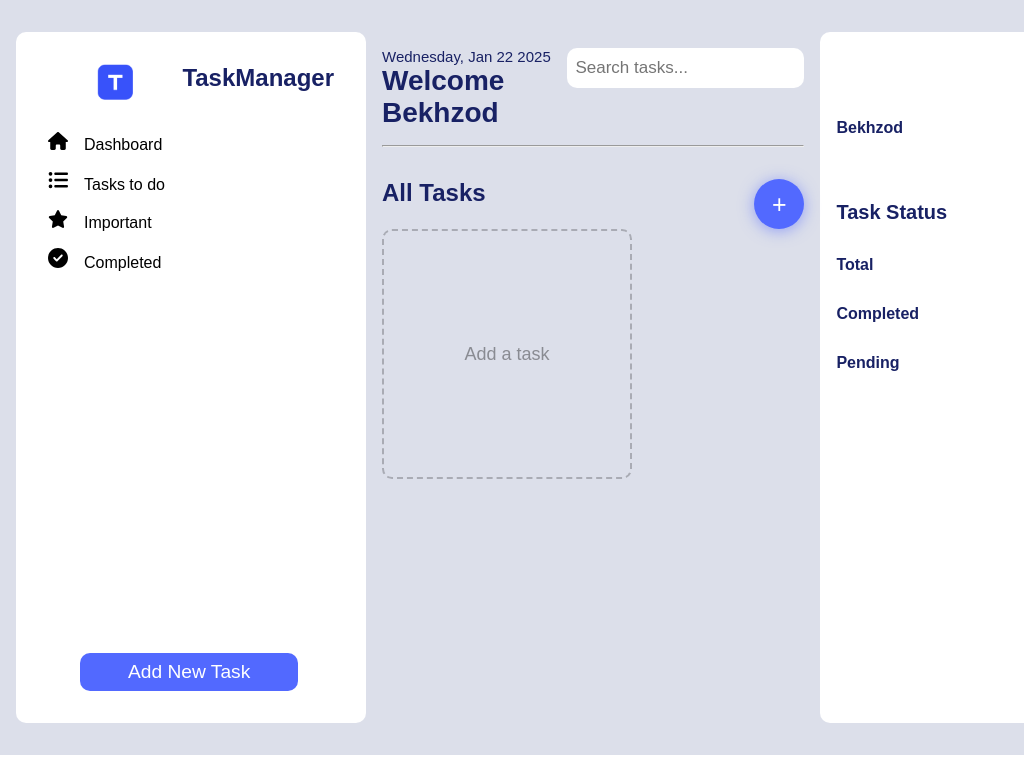
Scenario: Dashboard Component › Clicking 'Add Task' button opens the modal
Click the button "Add New Task" at x=189, y=672, box [80, 653, 298, 691]
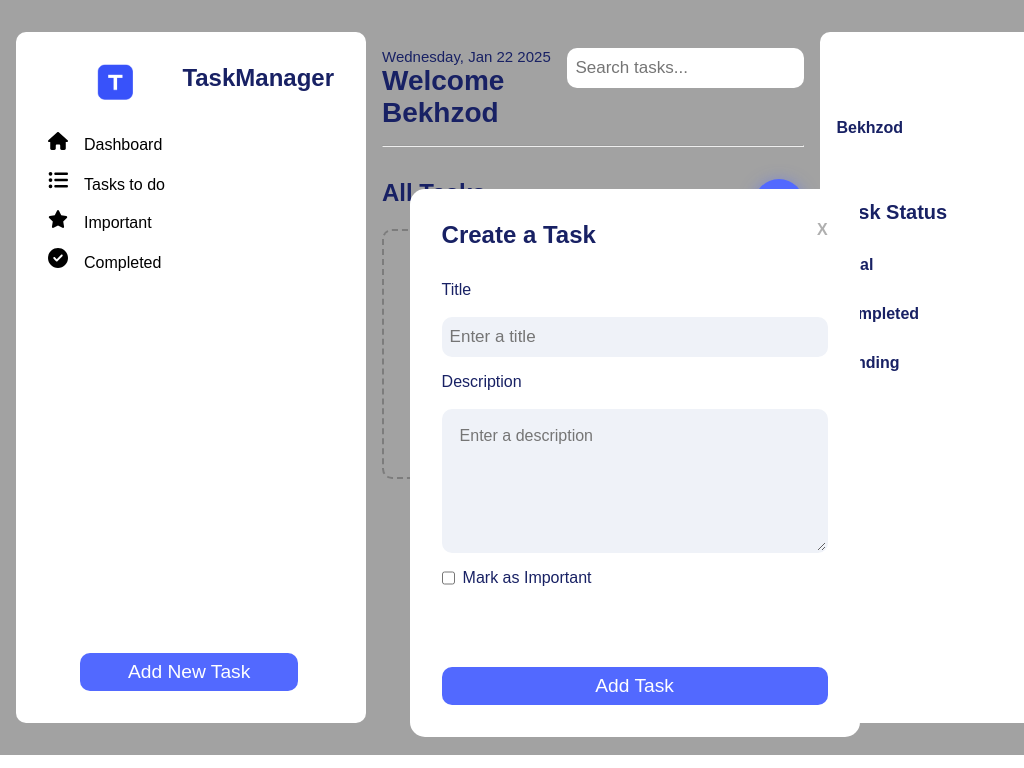
Check: the dialog is shown, box [410, 189, 860, 737]
